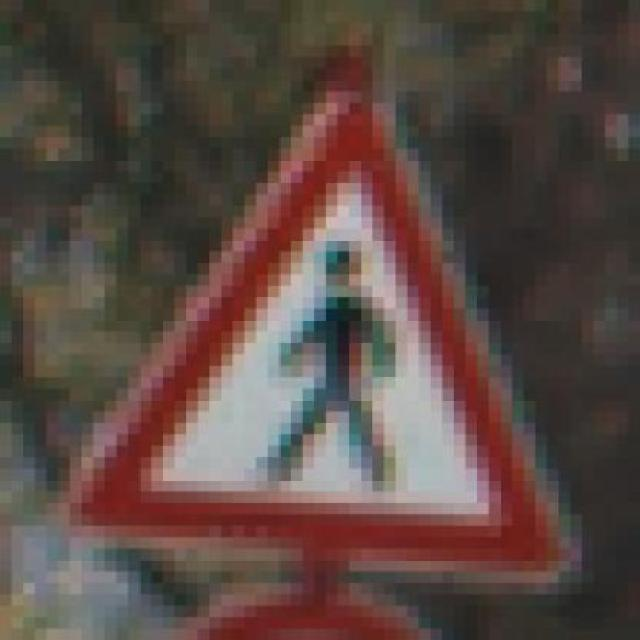Pedestrian Crossing: (46, 57, 594, 594)
